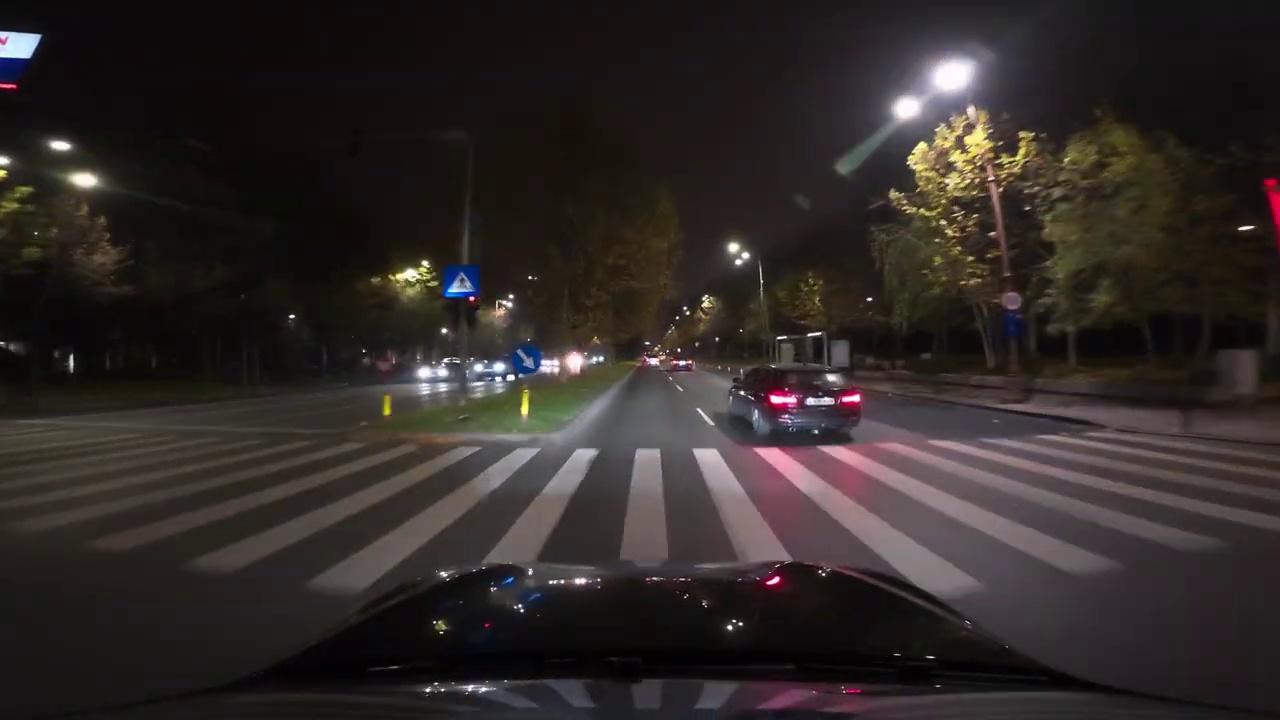acesa: (932, 58, 971, 90), (724, 238, 752, 268), (892, 94, 921, 121)
